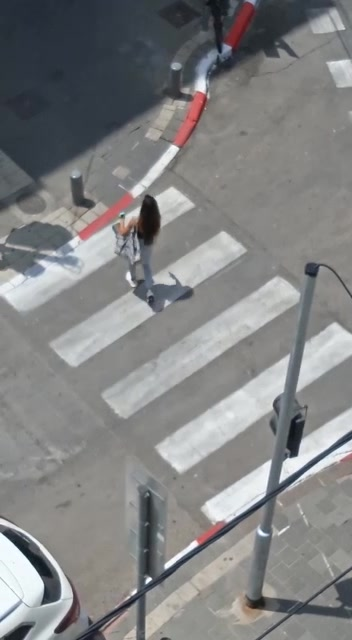crosswalk: (15, 183, 307, 474)
person: (103, 185, 178, 311)
